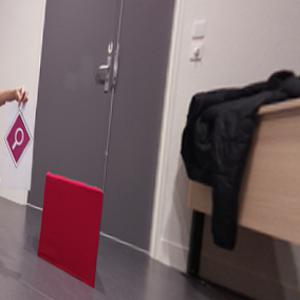medium: (35, 168, 106, 291)
